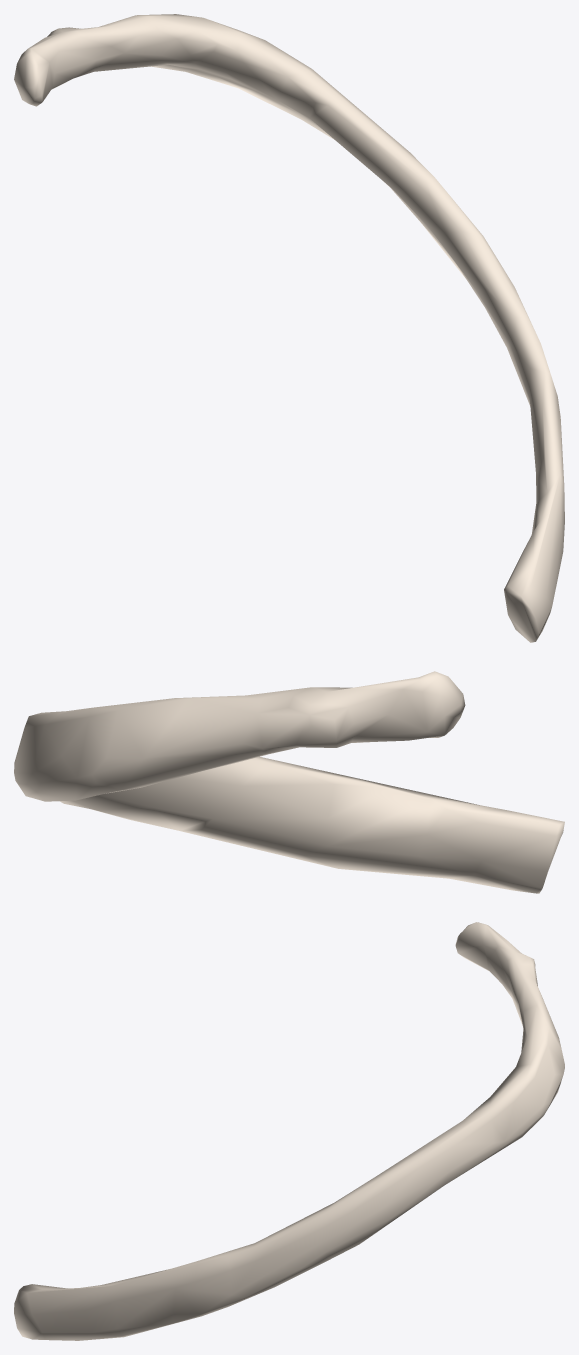
Rendered from left_rib_5.glb.
3 renders of one model, top to bottom at view 1: azimuth 30°, elevation 25°; view 2: azimuth 150°, elevation 25°; view 3: azimuth 270°, elevation 25°, orthographic. The views are drawn at different scales.
Parts seen in each view (by area): view 1: Rib (5th).r; view 2: Rib (5th).r; view 3: Rib (5th).r.
Part boxes in pixels (x1=…): Rib (5th).r: x1=14, y1=14, x2=564, y2=642; Rib (5th).r: x1=14, y1=671, x2=564, y2=893; Rib (5th).r: x1=14, y1=922, x2=564, y2=1340.
Bounding box in the file's own units: 0.116 × 0.1265 × 0.1884.
